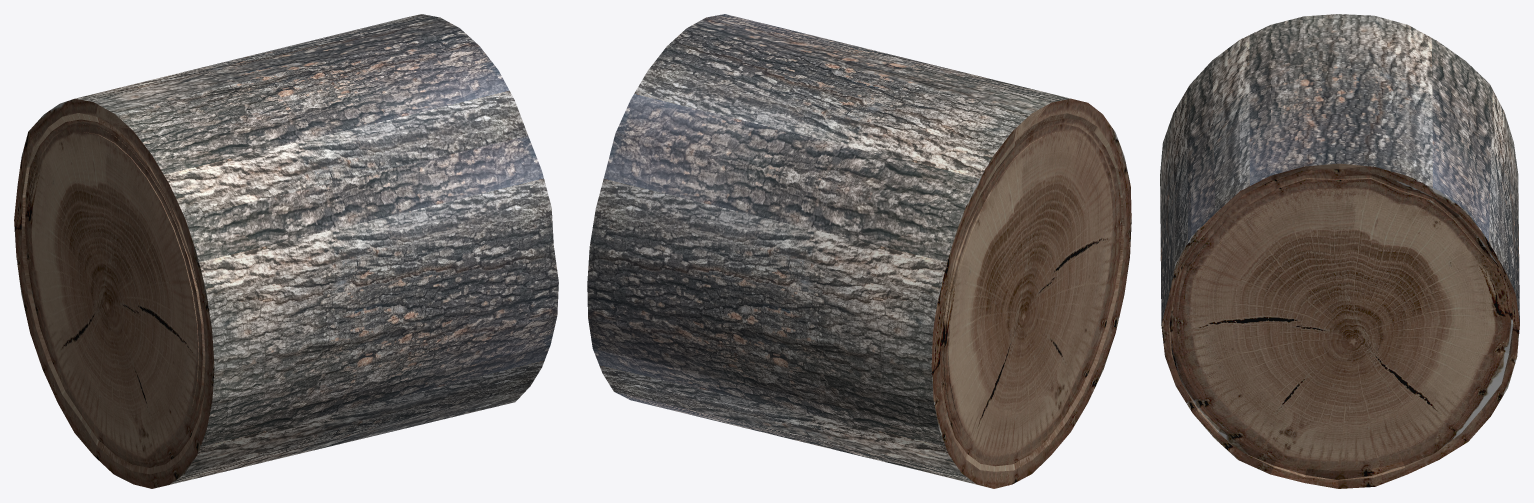
The model's file is Log_100.fbx.
3 views of the same model, side by side, from view 1: azimuth 30°, elevation 25°; view 2: azimuth 150°, elevation 25°; view 3: azimuth 270°, elevation 25° (orthographic). The views are drawn at different scales.
Visible parts, largest first — view 1: Cylinder.001; view 2: Cylinder.001; view 3: Cylinder.001.
Boxes of the visible parts, x1=… form: Cylinder.001: x1=14, y1=14, x2=558, y2=488; Cylinder.001: x1=587, y1=14, x2=1131, y2=488; Cylinder.001: x1=1160, y1=14, x2=1519, y2=488.
Bounding box in the file's own units: 100 × 100 × 100.
3 materials, 3 textured.
